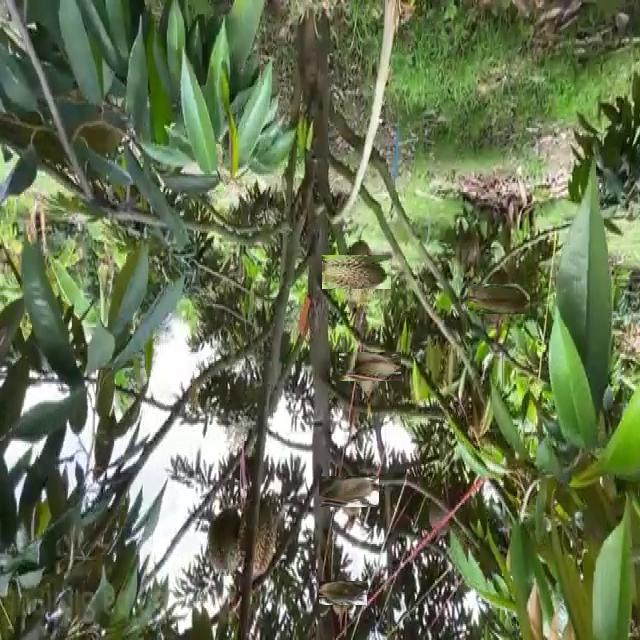durian: (238, 493, 277, 582), (207, 505, 246, 579), (331, 245, 383, 298), (476, 275, 522, 322), (347, 344, 393, 390), (326, 469, 372, 515), (325, 574, 361, 611)
